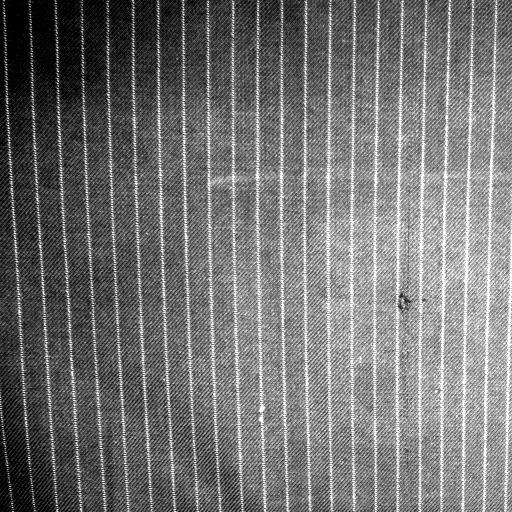fabric_hole: (396, 290, 416, 322)
